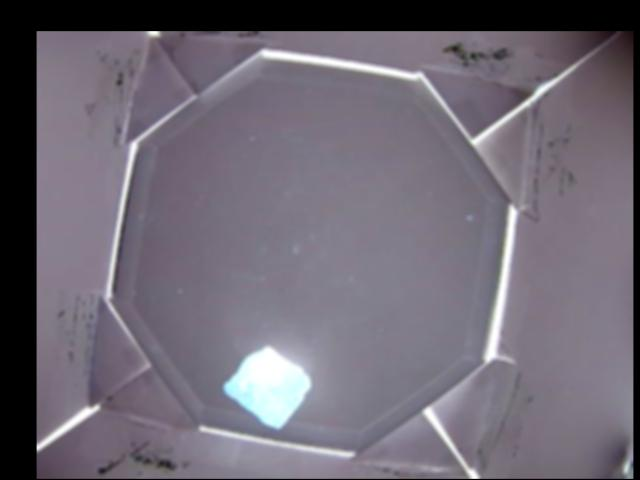Brisk: (222, 344, 312, 429)
